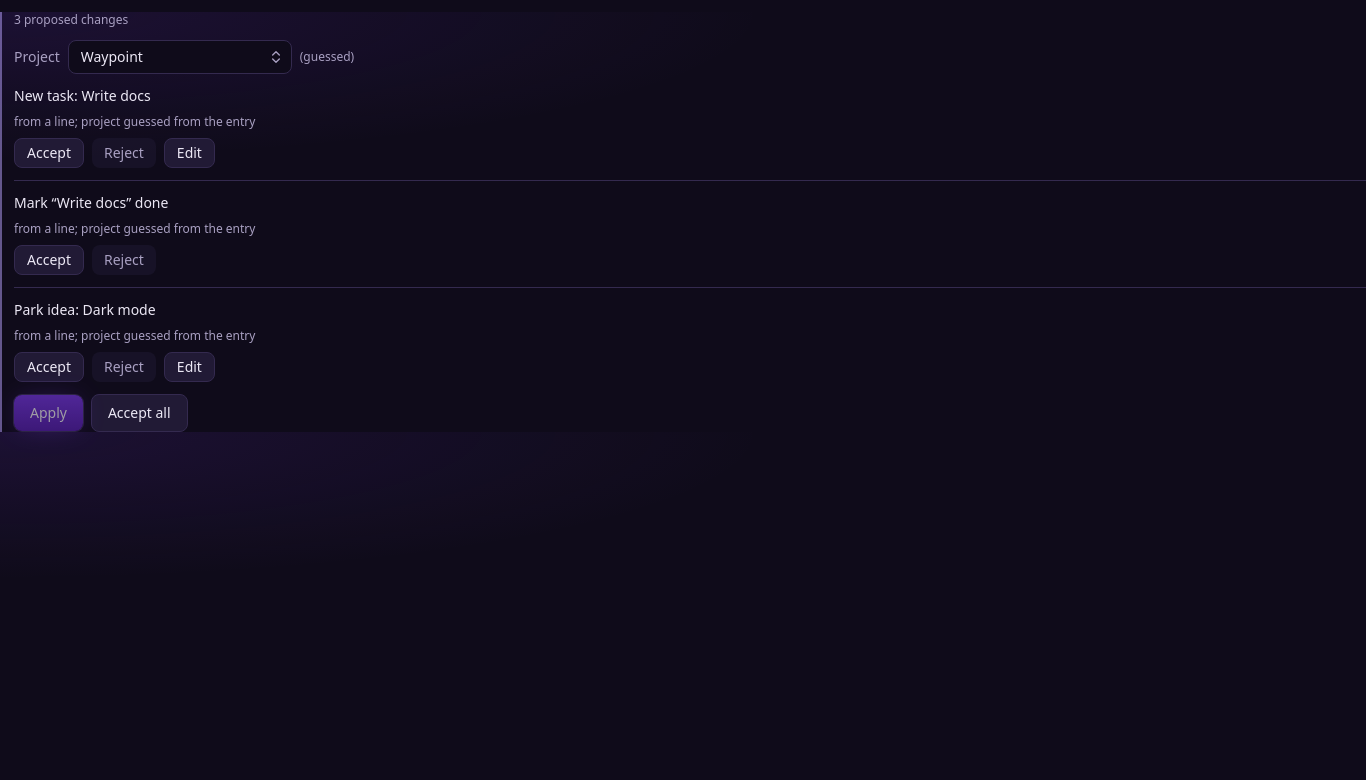
Test: ChangesetReview › can't accept an op that uses a rejected one
Click the button "Reject" below "New task: Write docs" at {"x": 124, "y": 153}, box [92,138,156,168]
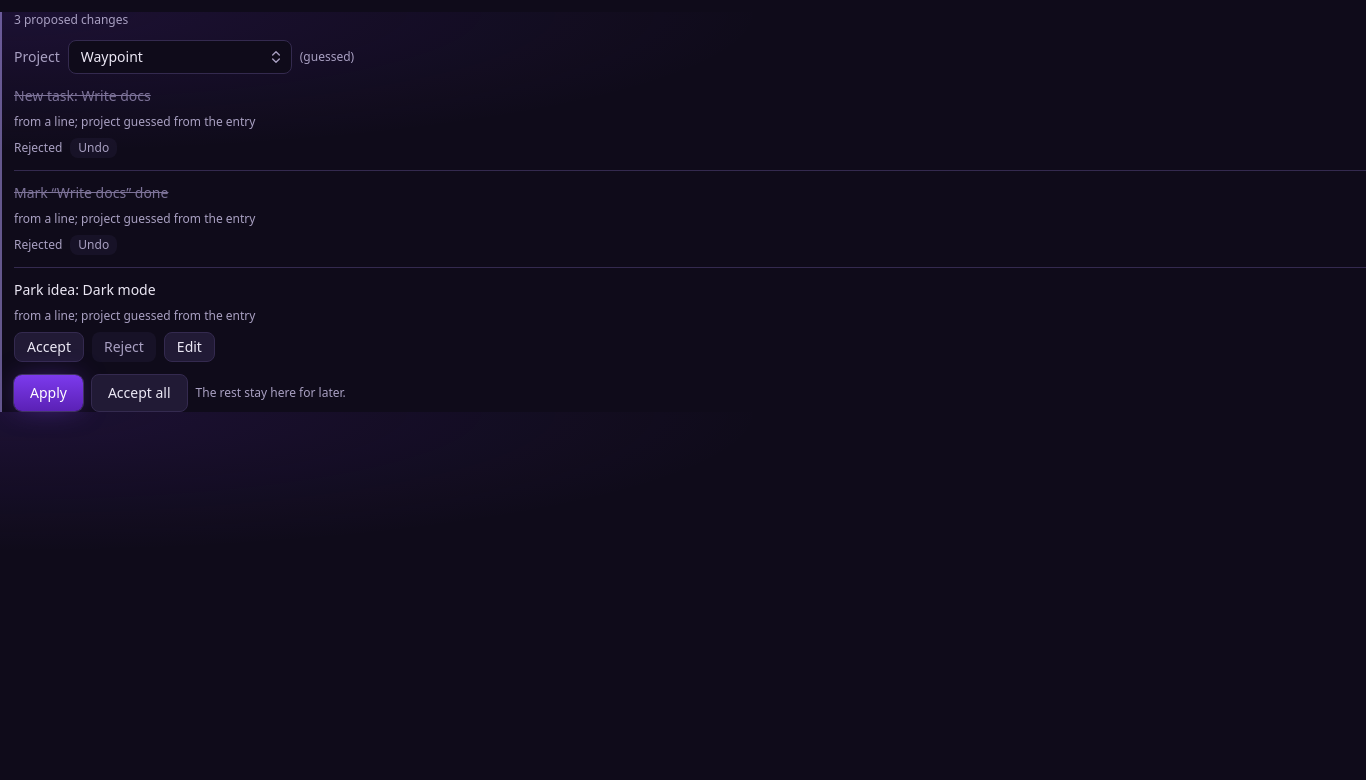
Click the button "Undo" below "Mark “Write docs” done" at {"x": 94, "y": 245}, box [70,235,117,255]
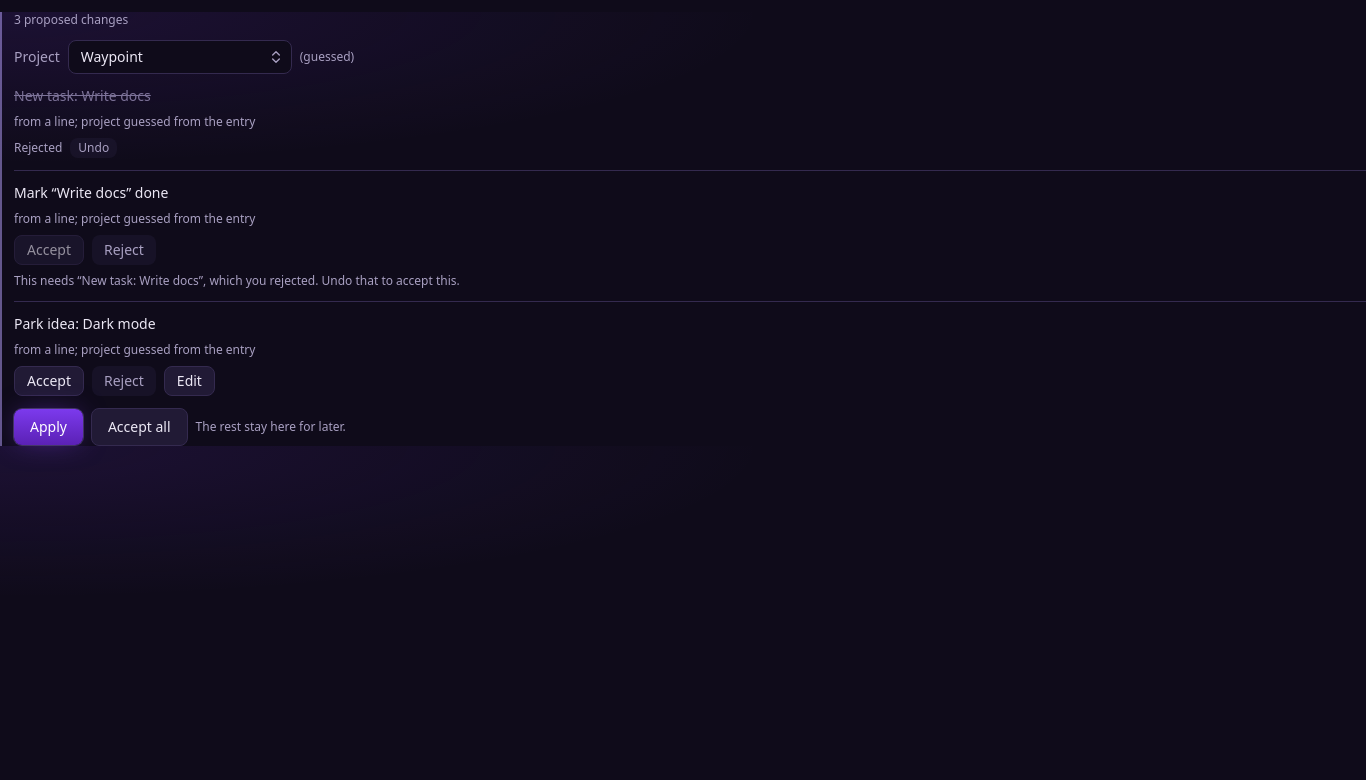
Check: the button "Accept" below "Mark “Write docs” done" is disabled, box [14,235,84,265]
Check: the list item that starts with "Mark “Write docs” done" shows "which you rejected", box [14,272,460,289]
